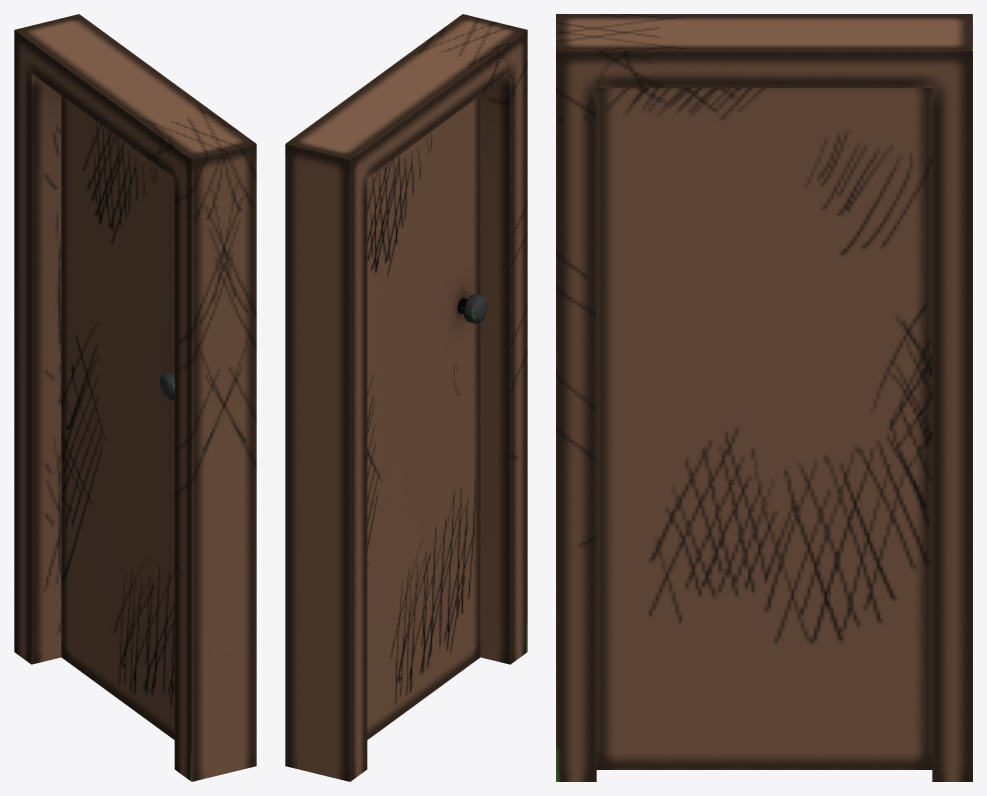
Rendered from StandingDoor.fbx.
The picture shows the model from 3 angles, left to right: view 1: azimuth 30°, elevation 25°; view 2: azimuth 150°, elevation 25°; view 3: azimuth 270°, elevation 25°; orthographic projection. The views are drawn at different scales.
Visible parts, largest first — view 1: StandingDoorFrame, StandingDoor; view 2: StandingDoorFrame, StandingDoor; view 3: StandingDoor, StandingDoorFrame.
Boxes of the visible parts, bbox=[...] form: StandingDoorFrame: bbox=[14, 14, 256, 781]; StandingDoor: bbox=[61, 96, 174, 739]; StandingDoorFrame: bbox=[285, 14, 527, 781]; StandingDoor: bbox=[367, 96, 487, 739]; StandingDoor: bbox=[596, 88, 932, 769]; StandingDoorFrame: bbox=[556, 14, 972, 781].
Bounding box in the file's own units: 21.83 × 200 × 103.
